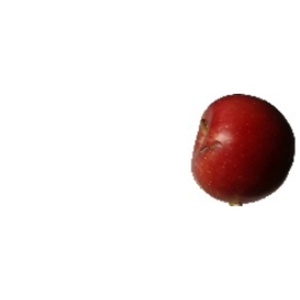maçã braeburn: (189, 91, 295, 203)
